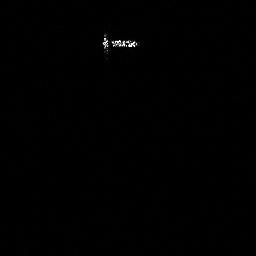ship: (103, 37, 137, 49)
